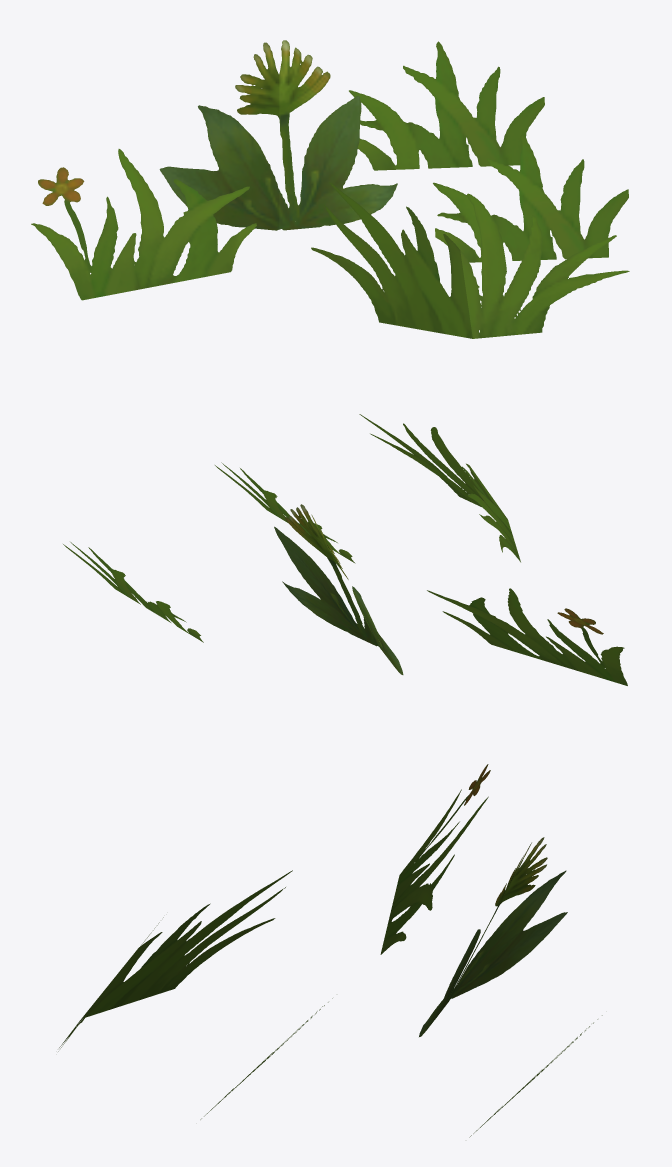
Rendered from grass_08.FBX.
3 views of the same model, one above another, from view 1: azimuth 30°, elevation 25°; view 2: azimuth 150°, elevation 25°; view 3: azimuth 270°, elevation 25° (orthographic). The views are drawn at different scales.
Parts seen in each view (by area): view 1: 对象007; view 2: 对象007; view 3: 对象007.
Boxes of the visible parts, box(x1,y1,x2,y2) form: 对象007: box(31, 40, 629, 338); 对象007: box(63, 414, 627, 685); 对象007: box(58, 764, 602, 1137).
Bounding box in the file's own units: 1.31 × 0.3755 × 1.13.
Materials: 1 (1 with a texture image).
